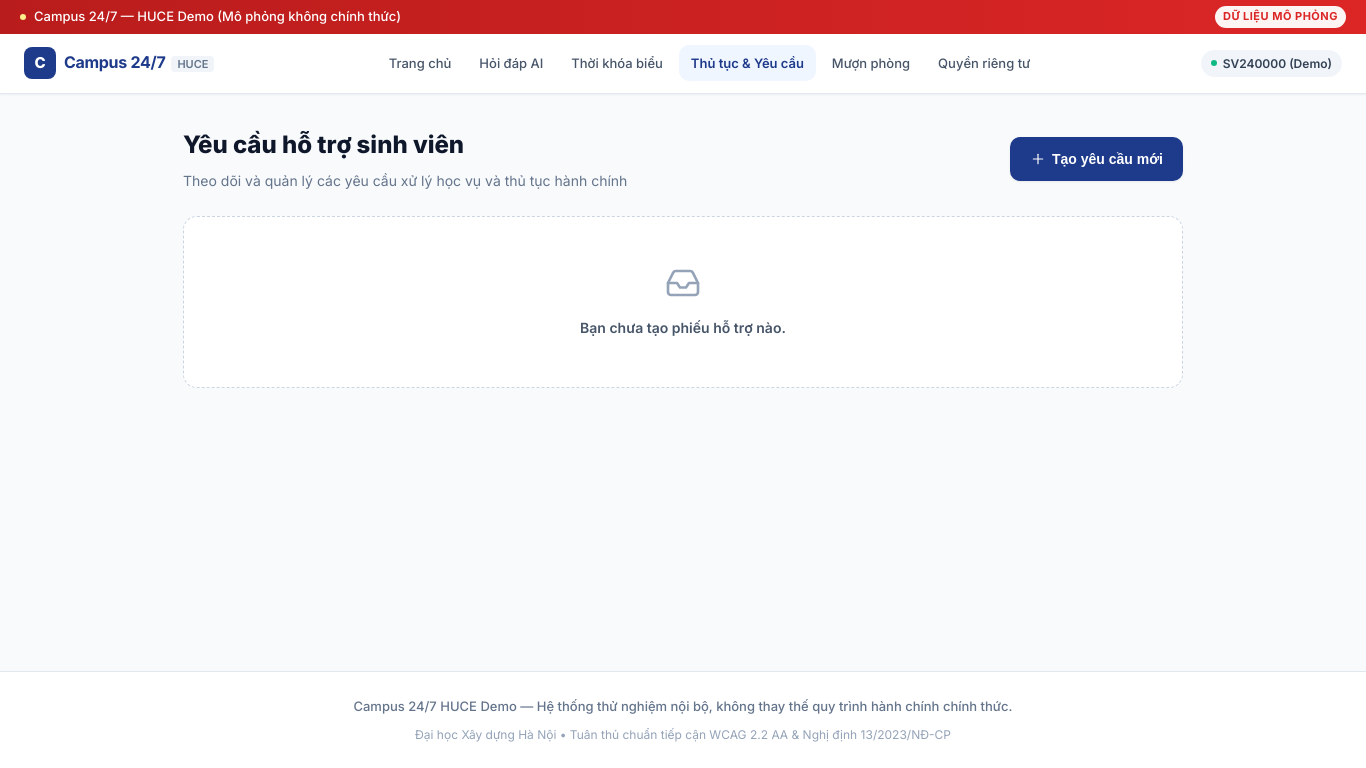
Test: TicketsPage Component - Fail Honestly (TASK-WEB-TICK-003) › creation failure never fabricates success receipt and retains form draft
This screenshot has width=1366, height=768.
// Open creation modal
Click the button "Tạo yêu cầu mới": (1096,159) [1010, 137, 1183, 181]
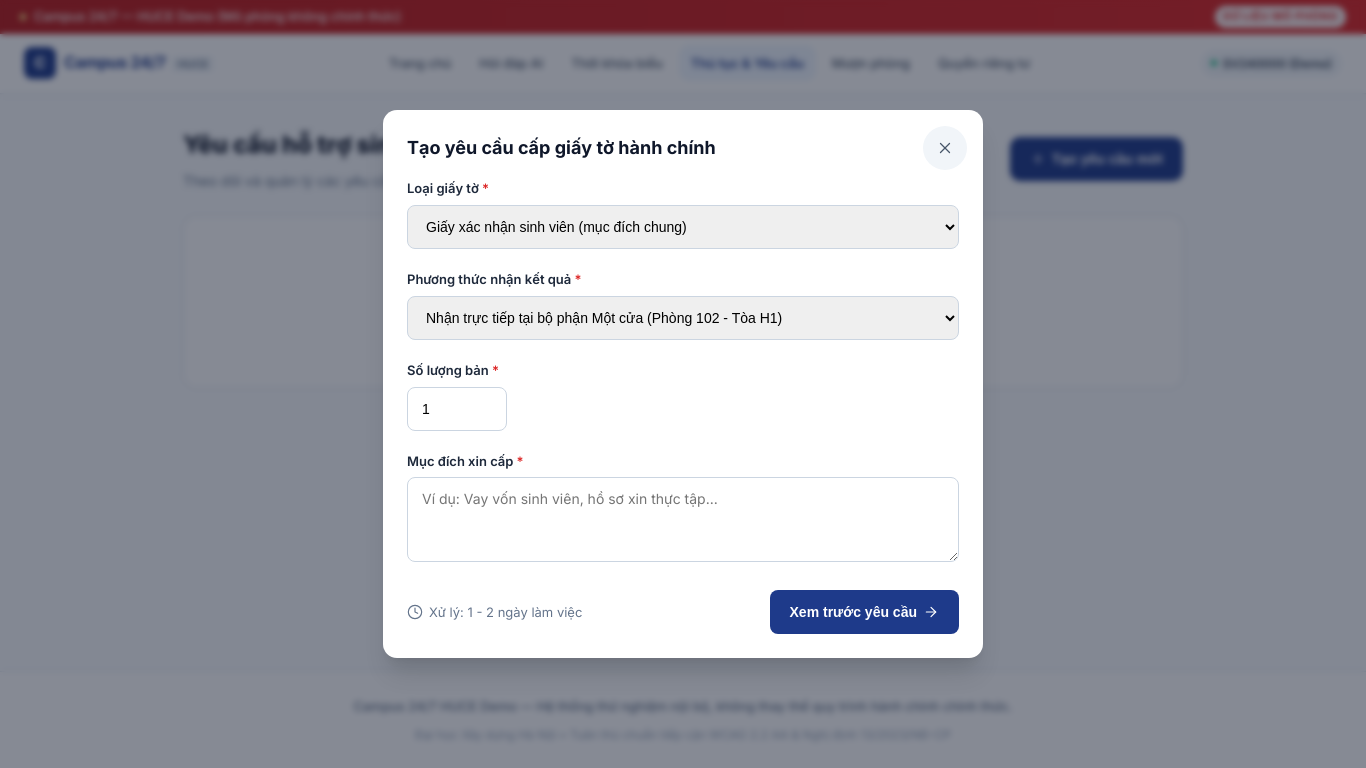
// Enter draft data
In the text box labelled "Mục đích xin cấp *": (683,520) [407, 478, 959, 562], type "Xin cấp bảng điểm nộp học bổng Panasonic"
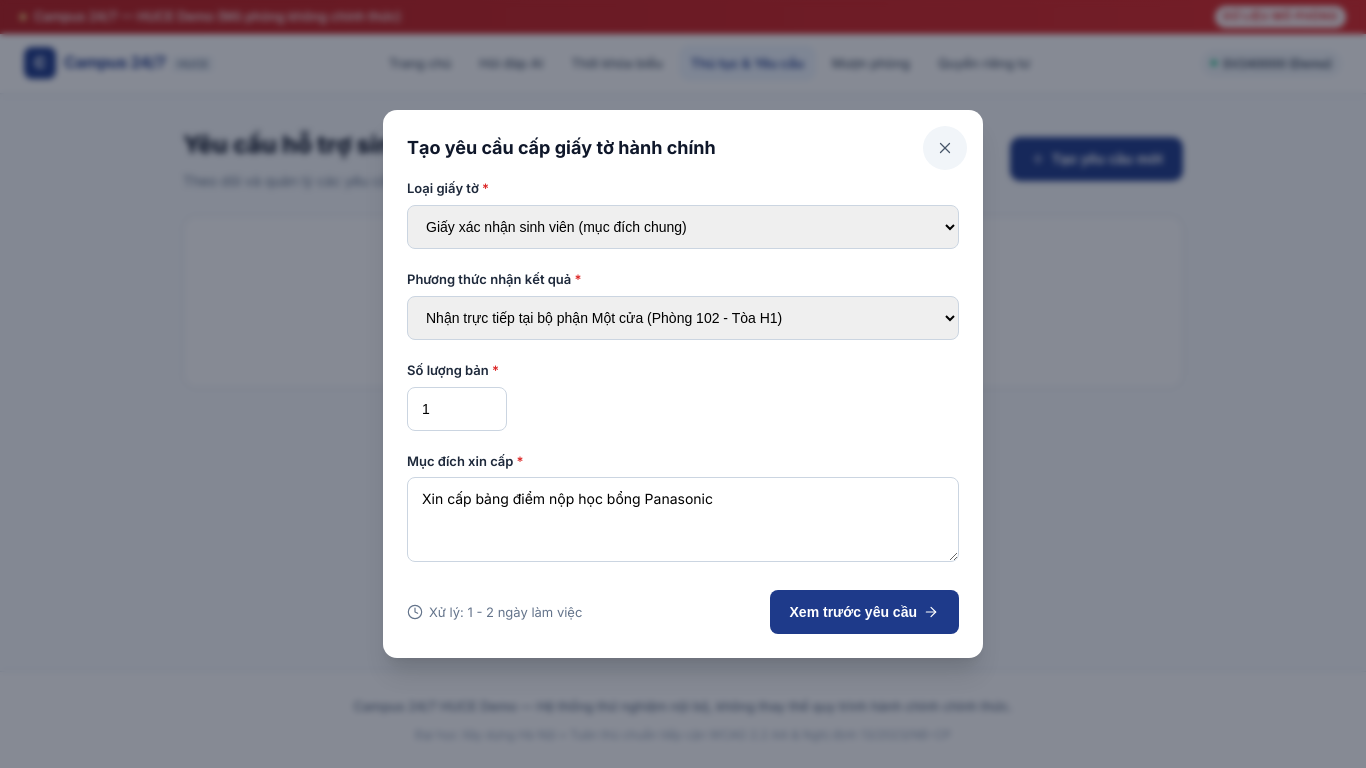
// Step to preview
Click the button "Xem trước yêu cầu": (864,612) [770, 590, 959, 634]
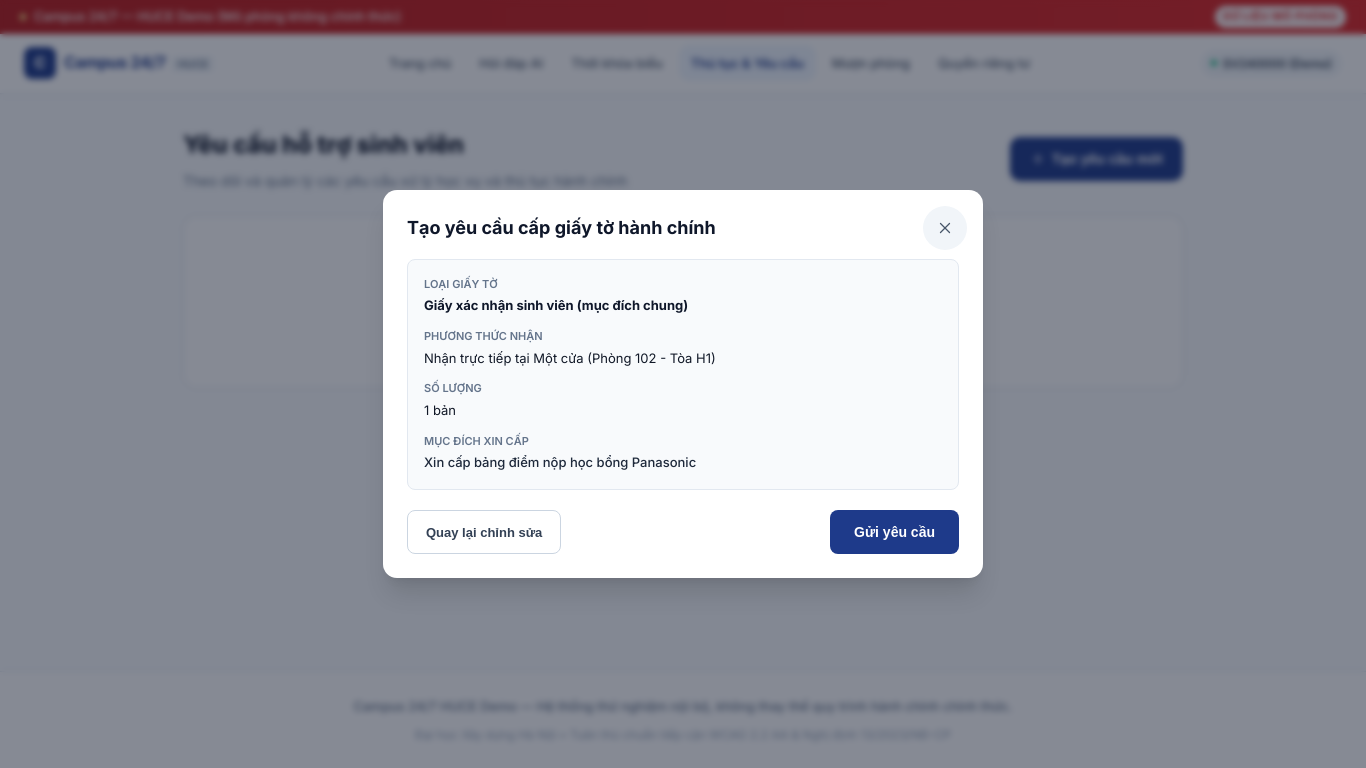
Click the button "Gửi yêu cầu": (894,532) [830, 510, 959, 554]
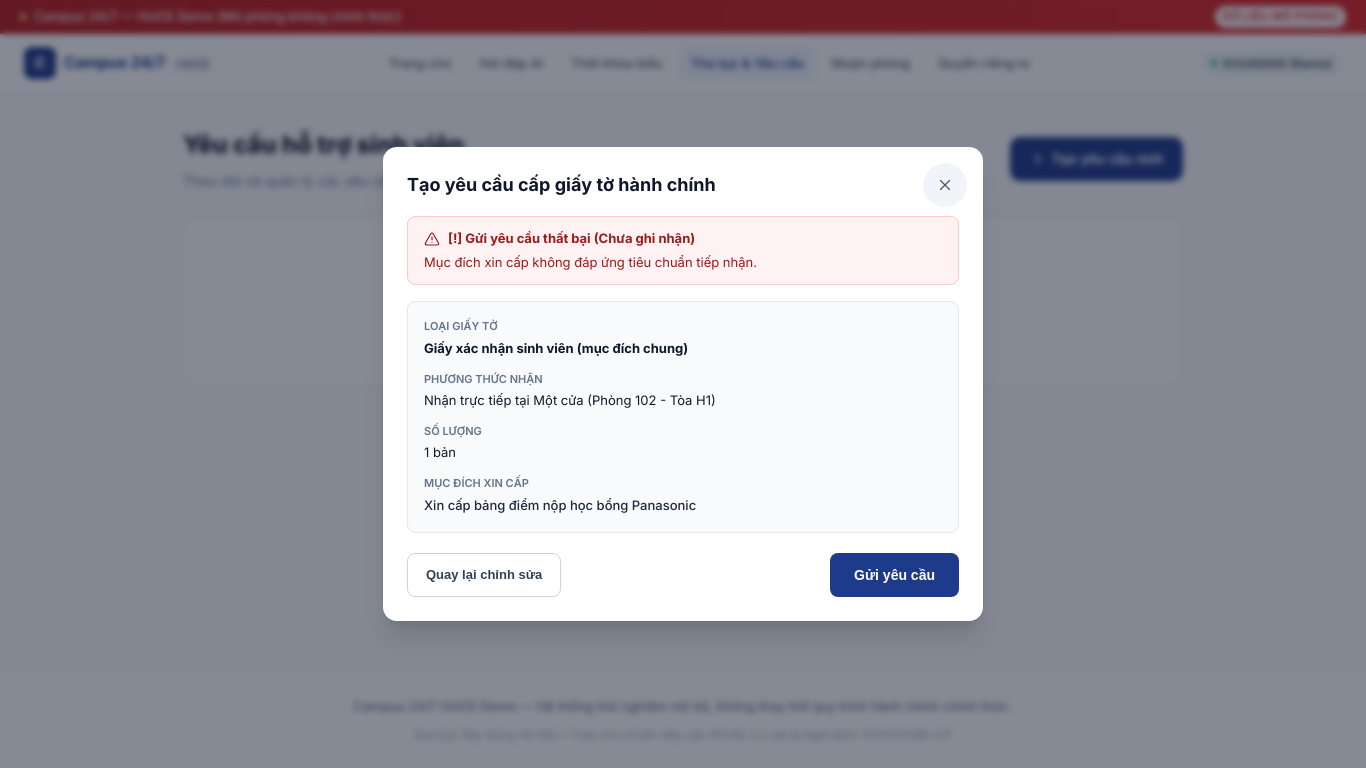
Result: the text "Xin cấp bảng điểm nộp học bổng Panasonic" is shown at [424, 497, 696, 513]
Result: the text "Mục đích xin cấp không đáp ứng tiêu chuẩn tiếp nhận." is shown at [424, 254, 757, 270]
